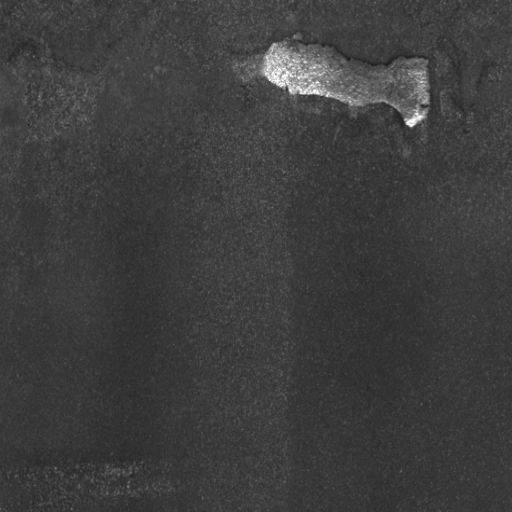aokeng: (255, 35, 435, 134)
